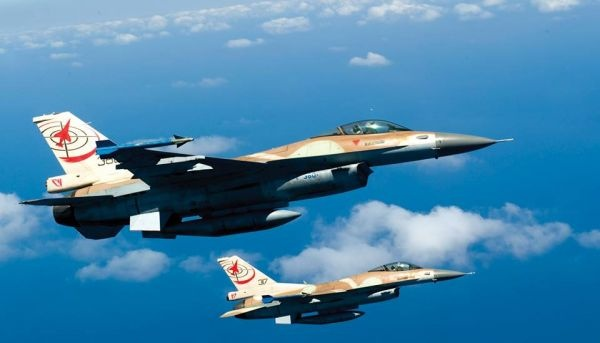airplane: (11, 99, 522, 245), (204, 251, 478, 336)
